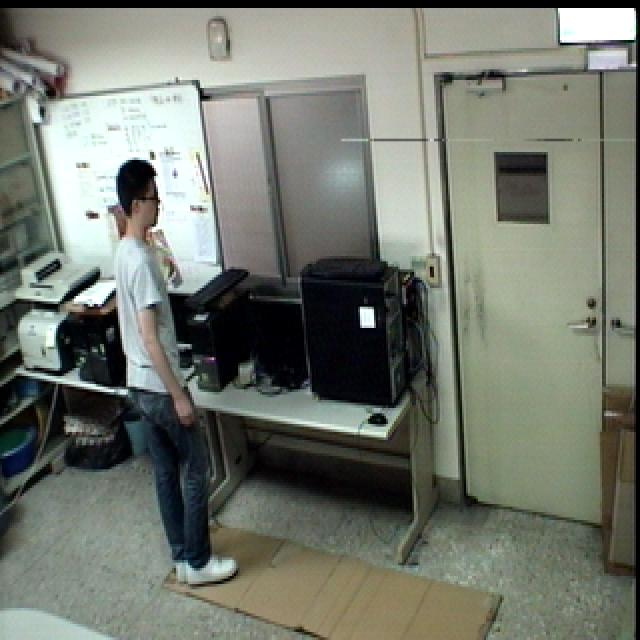stand: (104, 154, 248, 598)
